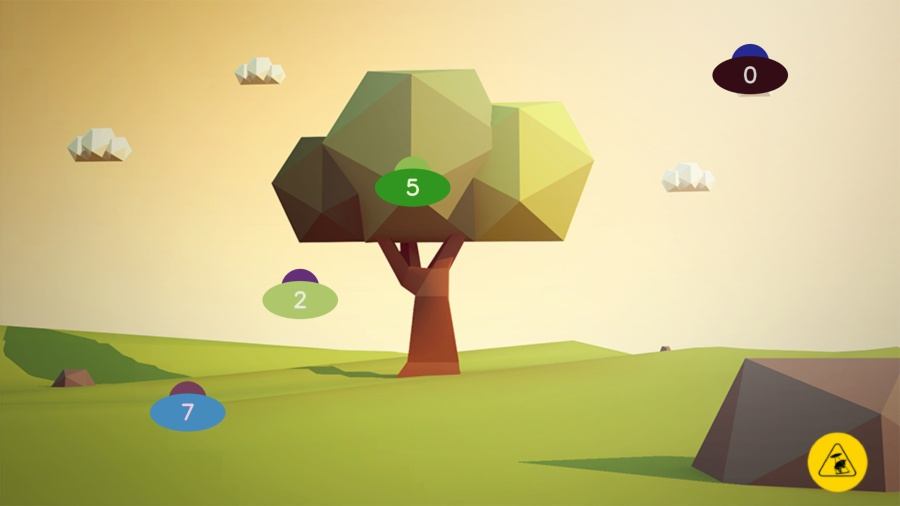ufo: (711, 43, 789, 96), (150, 381, 226, 432), (262, 268, 338, 319), (375, 157, 451, 207)
